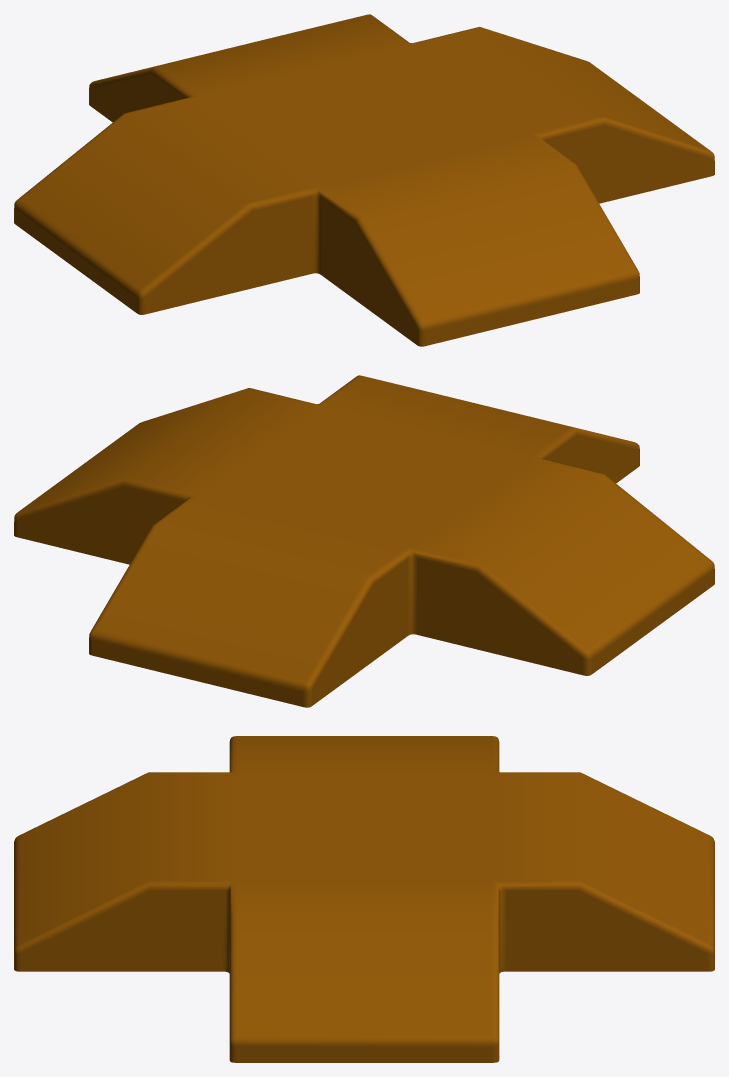
Rendered from Construction_Lamp_Foot_03.fbx.
3 renders of one model, top to bottom at view 1: azimuth 30°, elevation 25°; view 2: azimuth 150°, elevation 25°; view 3: azimuth 270°, elevation 25°, orthographic. The views are drawn at different scales.
Visible parts, largest first — view 1: Construction Lamp Foot 03; view 2: Construction Lamp Foot 03; view 3: Construction Lamp Foot 03.
Boxes of the visible parts, x1,y1,x2,y2 form: Construction Lamp Foot 03: [14, 14, 714, 346]; Construction Lamp Foot 03: [14, 375, 714, 707]; Construction Lamp Foot 03: [14, 736, 714, 1062].
Bounding box in the file's own units: 52 × 7.16 × 52.
